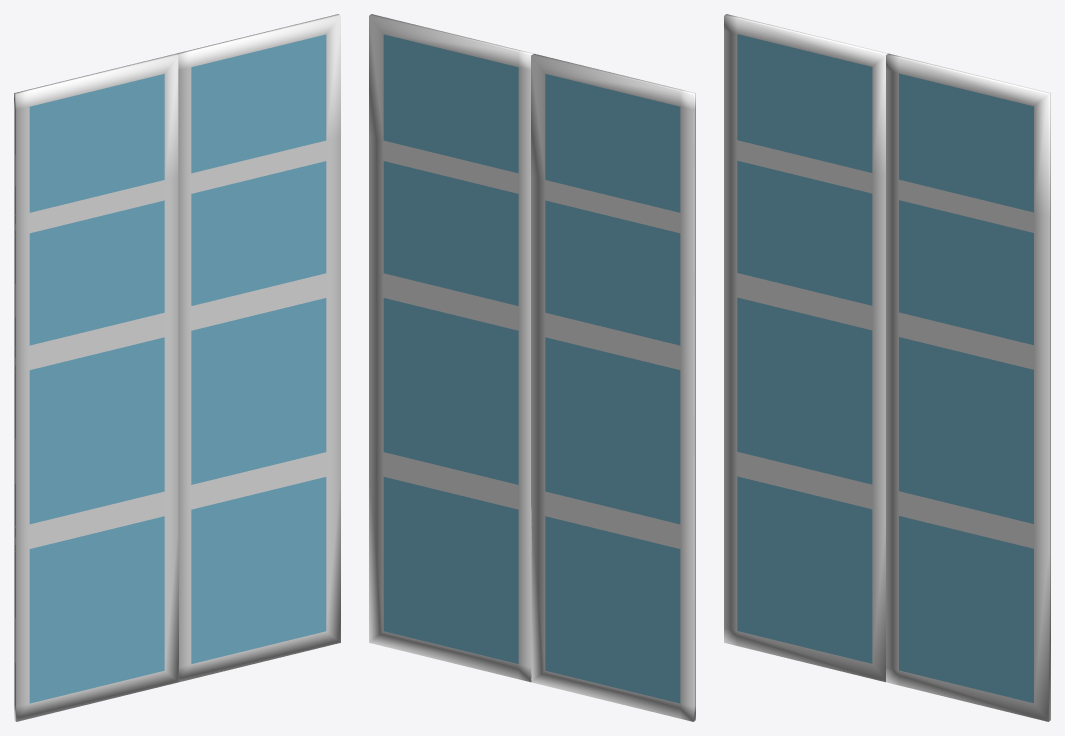
The model's file is OfficeCupboardDoors_low.fbx.
3 views of the same model, side by side, from view 1: azimuth 30°, elevation 25°; view 2: azimuth 150°, elevation 25°; view 3: azimuth 330°, elevation 25° (orthographic).
Visible parts, largest first — view 1: NST_CupboardDoor2_low, NST_CupboardDoor1_low; view 2: NST_CupboardDoor2_low, NST_CupboardDoor1_low; view 3: NST_CupboardDoor1_low, NST_CupboardDoor2_low.
Boxes of the visible parts, x1=… form: NST_CupboardDoor2_low: x1=14, y1=53, x2=178, y2=721; NST_CupboardDoor1_low: x1=176, y1=14, x2=340, y2=682; NST_CupboardDoor2_low: x1=531, y1=53, x2=695, y2=721; NST_CupboardDoor1_low: x1=369, y1=14, x2=533, y2=682; NST_CupboardDoor1_low: x1=886, y1=53, x2=1050, y2=721; NST_CupboardDoor2_low: x1=724, y1=14, x2=887, y2=682.
Size of the model in its own units: 97.46 by 180 by 1.22.
